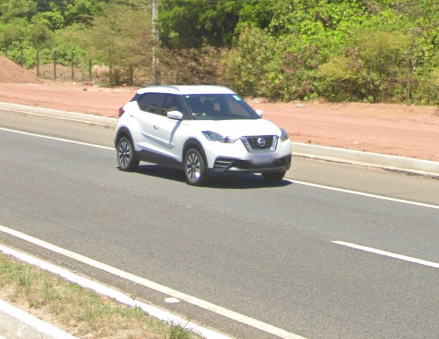car: (112, 82, 295, 186)
